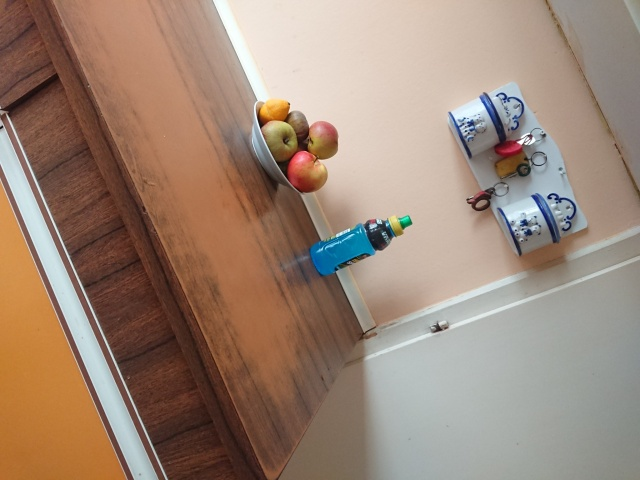Vindi Iso Sport Forest Strawberries 500mL: (308, 213, 413, 278)
